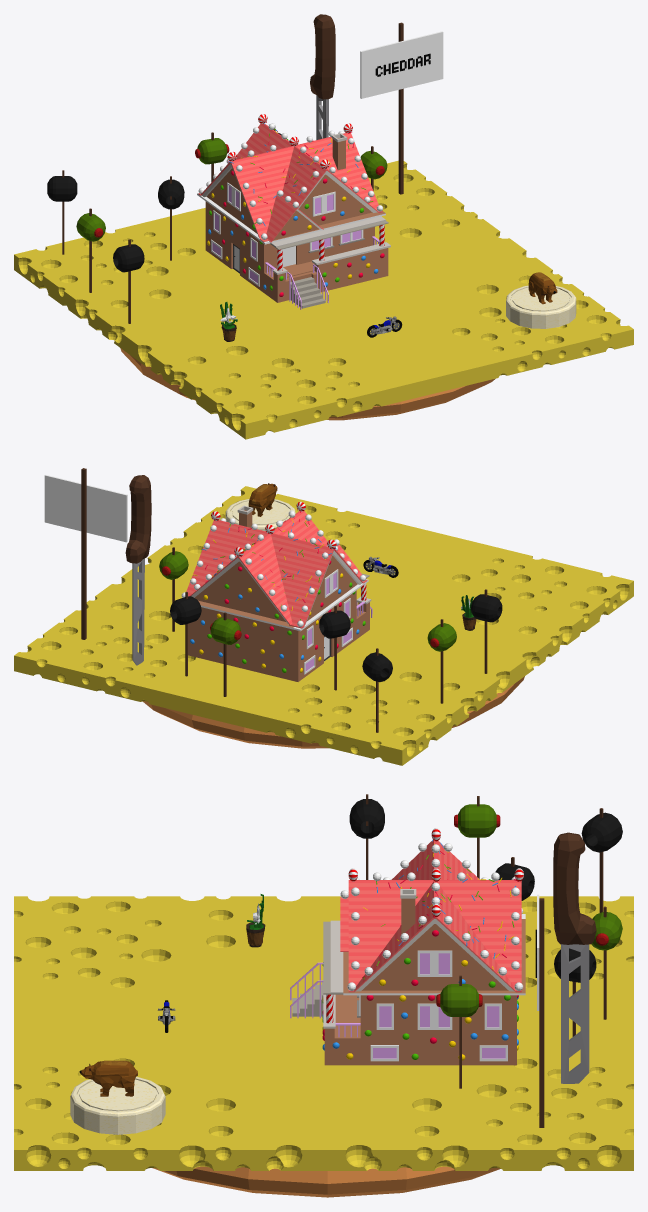
The picture shows the model from 3 angles, top to bottom: view 1: azimuth 30°, elevation 25°; view 2: azimuth 150°, elevation 25°; view 3: azimuth 270°, elevation 25°; orthographic projection. The views are drawn at different scales.
Parts seen in each view (by area): view 1: Cube.022, Cube.1203, Cube.023, Cylinder.016, Cube.024, UNDERGROUND_PIZZA, Sphere.017, Sphere.016, Sphere.018, Sphere.022, Sphere.020, ANIMAL_OSO (+1 smaller); view 2: Cube.022, Cube.1203, Cube.023, Cube.024, UNDERGROUND_PIZZA, Cylinder.016, Sphere.017, Sphere.022, Sphere.020, Sphere.021, Sphere.018, Sphere.016 (+3 smaller); view 3: Cube.022, Cube.1203, Cube.024, UNDERGROUND_PIZZA, Cylinder.016, Cube.023, Sphere.016, Sphere.019, Sphere.018, ANIMAL_OSO, Sphere.017, Sphere.022 (+3 smaller).
Part boxes in pixels (x1,y1,x2,y2): Cube.022: (14, 160, 633, 439); Cube.1203: (197, 114, 390, 309); Cube.023: (360, 22, 443, 194); Cylinder.016: (506, 285, 576, 328); Cube.024: (310, 14, 335, 139); UNDERGROUND_PIZZA: (120, 348, 495, 420); Sphere.017: (113, 239, 144, 323); Sphere.016: (47, 170, 77, 254); Sphere.018: (76, 208, 105, 292); Sphere.022: (195, 132, 229, 181); Sphere.020: (158, 176, 184, 260); ANIMAL_OSO: (528, 272, 557, 304); Cube.022: (14, 486, 633, 765); Cube.1203: (181, 501, 372, 681); Cube.023: (44, 468, 127, 639); Cube.024: (125, 475, 151, 665); UNDERGROUND_PIZZA: (143, 676, 524, 748); Cylinder.016: (225, 499, 295, 531); Sphere.017: (471, 589, 502, 673); Sphere.022: (210, 612, 241, 696); Sphere.020: (319, 606, 350, 690); Sphere.021: (170, 592, 201, 676); Sphere.018: (427, 619, 456, 703); Sphere.016: (362, 648, 392, 732); Cube.022: (14, 896, 633, 1170); Cube.1203: (290, 828, 525, 1065); Cube.024: (553, 832, 596, 1083); UNDERGROUND_PIZZA: (152, 1166, 500, 1197); Cylinder.016: (70, 1076, 165, 1134); Cube.023: (535, 894, 544, 1127); Sphere.016: (581, 808, 622, 912); Sphere.019: (436, 975, 482, 1088); Sphere.018: (454, 796, 500, 878); ANIMAL_OSO: (79, 1060, 137, 1096); Sphere.017: (349, 794, 384, 879); Sphere.022: (591, 906, 622, 1019).
Size of the model in its own units: 3917 by 2219 by 4000.
46 materials, 4 textured.
